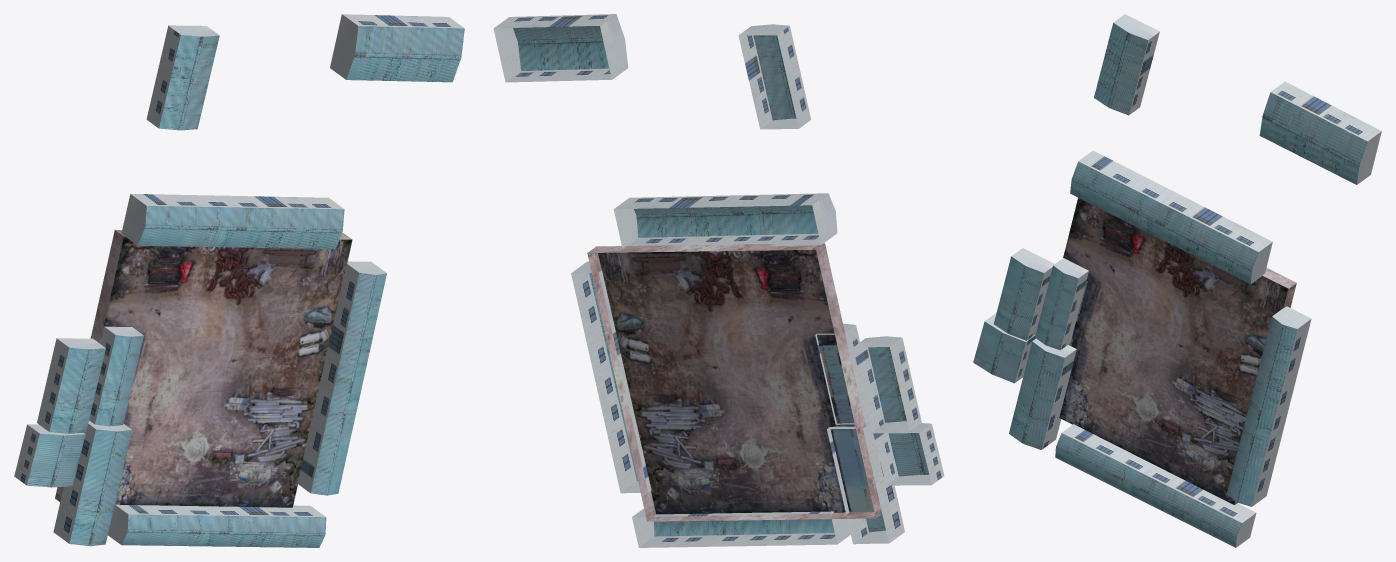
File: building_p5_07_03.fbx
3 renders of one model, left to right at view 1: azimuth 30°, elevation 25°; view 2: azimuth 150°, elevation 25°; view 3: azimuth 330°, elevation 25°, orthographic. The views are drawn at different scales.
Parts seen in each view (by area): view 1: Building_P5_07_03; view 2: Building_P5_07_03; view 3: Building_P5_07_03.
Boxes of the visible parts, <box> form: Building_P5_07_03: <box>14,14,464,547</box>; Building_P5_07_03: <box>493,14,944,547</box>; Building_P5_07_03: <box>973,14,1381,547</box>.
Size of the model in its own units: 8974 by 10709 by 891.
